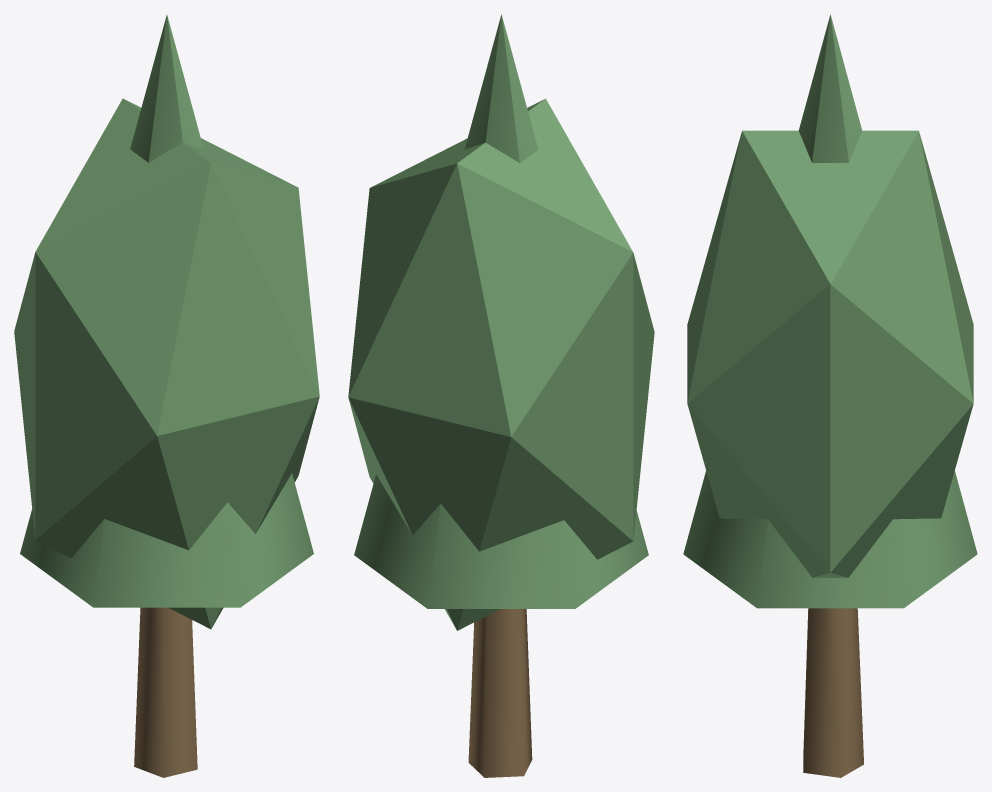
Rendered from Tree_2.glb.
The picture shows the model from 3 angles, left to right: view 1: azimuth 30°, elevation 25°; view 2: azimuth 150°, elevation 25°; view 3: azimuth 270°, elevation 25°; orthographic projection.
Visible parts, largest first — view 1: Tree_2; view 2: Tree_2; view 3: Tree_2.
Boxes of the visible parts, left/top/right/bottom form: Tree_2: left=14, top=15, right=319, bottom=777; Tree_2: left=348, top=14, right=654, bottom=777; Tree_2: left=683, top=14, right=977, bottom=777.
Bounding box in the file's own units: 2.89 × 7.88 × 2.8.
